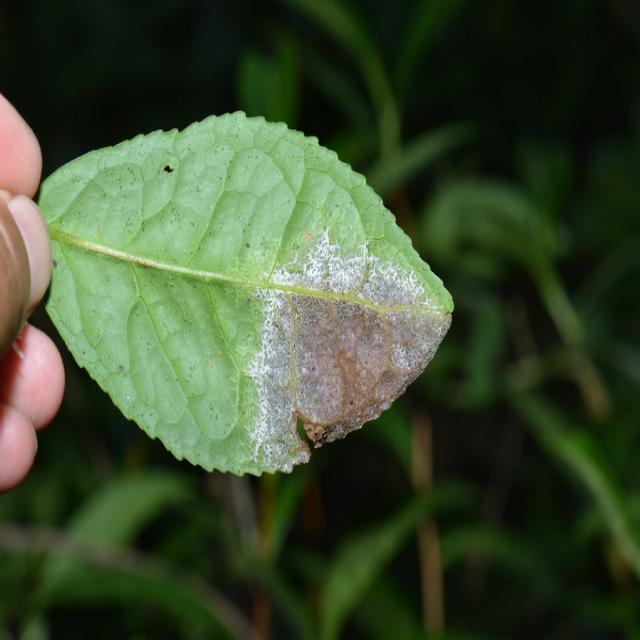Tea exobasidium blight: (255, 247, 442, 481)
